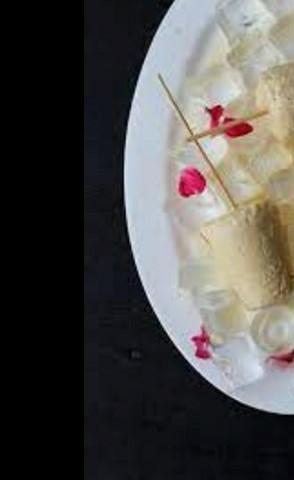Kulfi: (201, 194, 294, 311)
